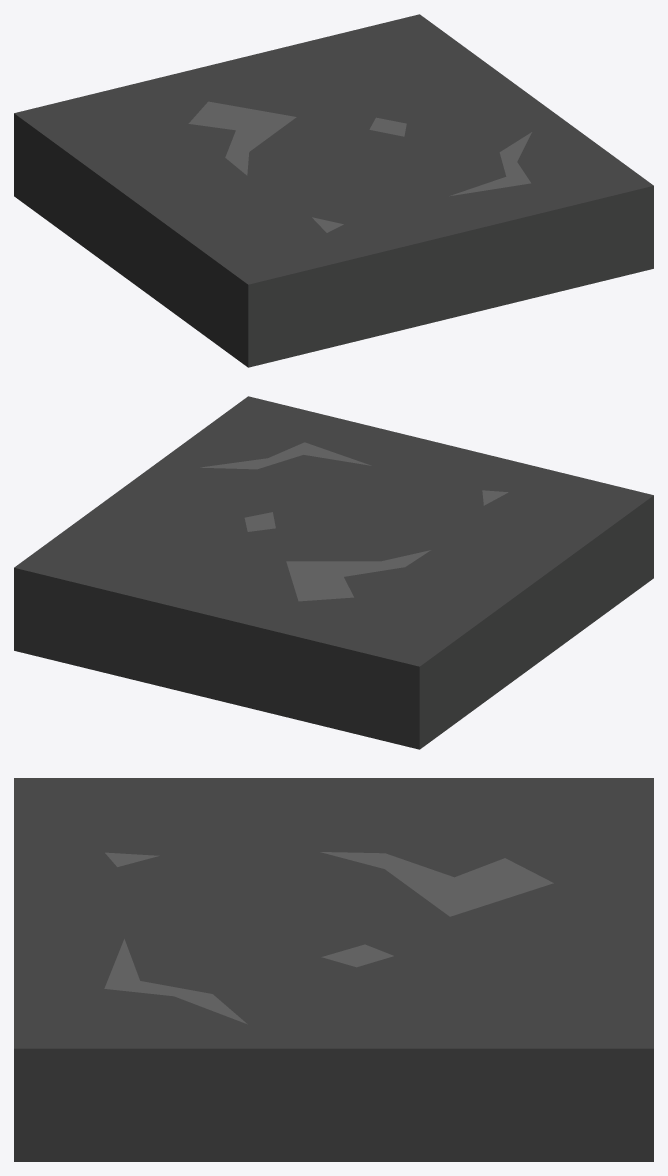
File: Ground_3_4.obj
3 renders of one model, top to bottom at view 1: azimuth 30°, elevation 25°; view 2: azimuth 150°, elevation 25°; view 3: azimuth 270°, elevation 25°, orthographic. The views are drawn at different scales.
Parts seen in each view (by area): view 1: Ground_3_4; view 2: Ground_3_4; view 3: Ground_3_4.
Boxes of the visible parts, left/top/right/bottom form: Ground_3_4: left=14, top=14, right=653, bottom=367; Ground_3_4: left=14, top=396, right=653, bottom=749; Ground_3_4: left=14, top=778, right=653, bottom=1161.
Bounding box in the file's own units: 2 × 0.3912 × 2.
